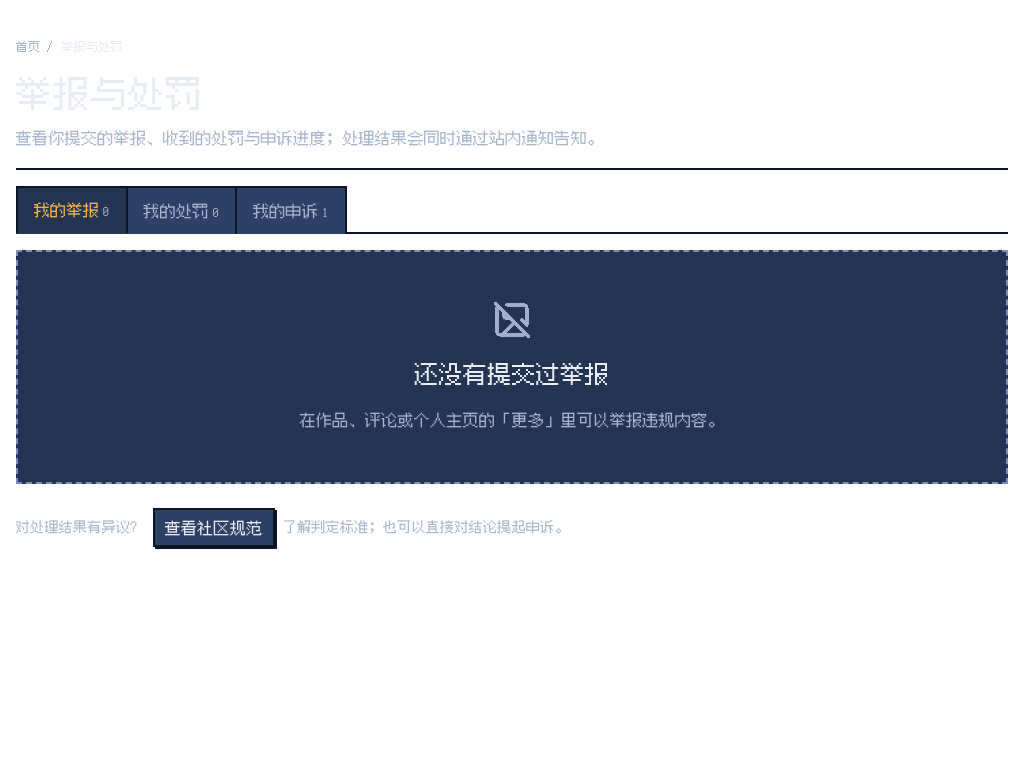
Test: MeModerationPage › 申诉 Tab：展示申诉内容与复核意见
What coordinates should you click on to do the following:
click the tab "我的申诉1"
I would click on:
 (291, 210)
Its box is [235,186,347,234].
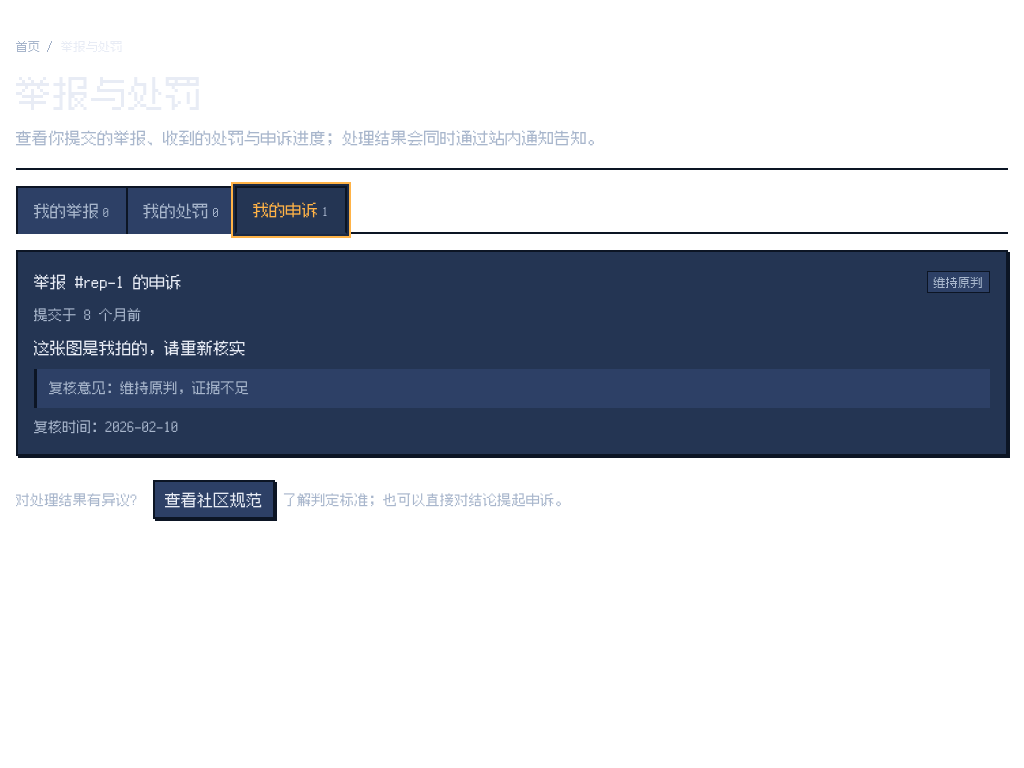
Check: the text "复核意见：维持原判，证据不足" is shown, box [34,369,990,408]
Check: the text "这张图是我拍的，请重新核实" is shown, box [34,337,246,358]
Check: the text "维持原判" is shown, box [927,271,990,293]
